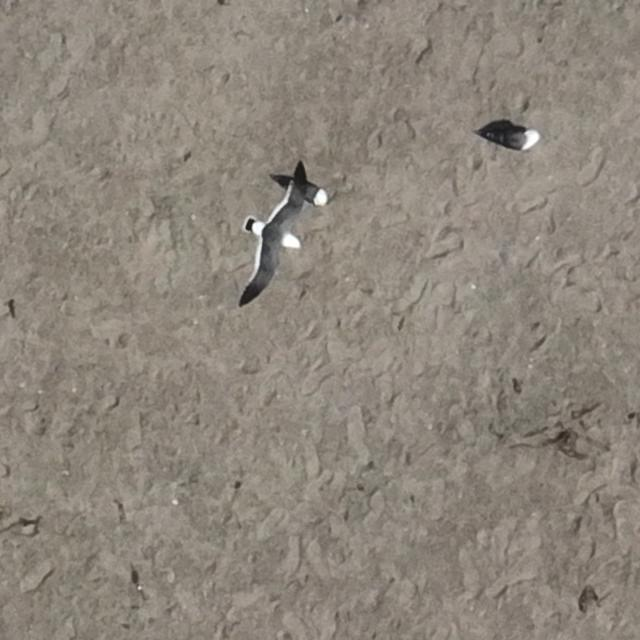F: (249, 189, 306, 280)
umineko: (487, 128, 538, 150), (300, 185, 328, 205)
